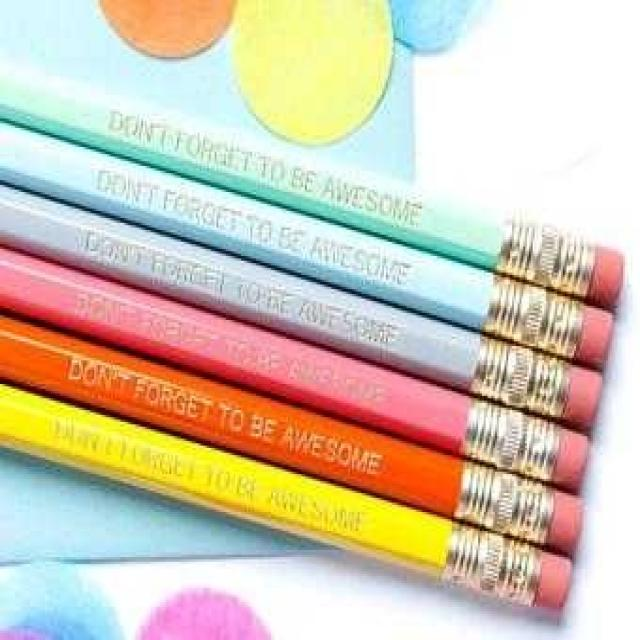pencil: (0, 45, 628, 311), (0, 119, 621, 375), (0, 181, 610, 435), (0, 247, 598, 503), (0, 304, 596, 560), (2, 382, 570, 617)
